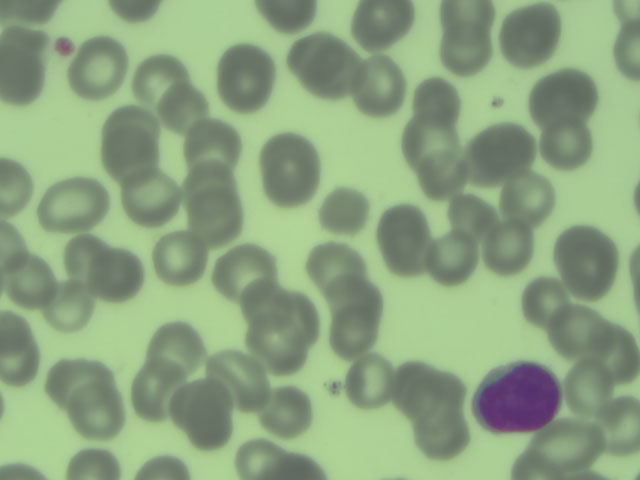Platelets: (54, 30, 81, 62), (322, 377, 348, 401), (487, 88, 509, 114)
RBC: (468, 124, 540, 180), (37, 178, 108, 229), (560, 228, 615, 293), (263, 136, 316, 203), (532, 69, 597, 123), (504, 8, 558, 64), (297, 34, 349, 91), (217, 51, 272, 104), (1, 321, 46, 383), (72, 41, 127, 91), (412, 151, 467, 201), (562, 367, 613, 418), (122, 174, 174, 222), (603, 14, 640, 79), (322, 187, 370, 234), (100, 251, 148, 298), (60, 234, 108, 281), (45, 284, 93, 331), (105, 134, 153, 181), (104, 107, 152, 154), (155, 237, 203, 284), (190, 203, 238, 250), (185, 166, 233, 213), (187, 119, 235, 166), (159, 84, 207, 131), (136, 56, 184, 103), (355, 59, 403, 106), (248, 327, 296, 374), (276, 295, 324, 342), (242, 281, 290, 328), (218, 247, 266, 294), (265, 389, 313, 436), (217, 358, 265, 405), (182, 390, 230, 437), (132, 368, 180, 415), (149, 324, 197, 371), (73, 387, 121, 434), (52, 356, 100, 403), (485, 225, 533, 272), (504, 175, 552, 222), (406, 119, 454, 166), (546, 123, 594, 170), (442, 27, 490, 74), (414, 78, 462, 125), (428, 235, 476, 282), (380, 207, 428, 254), (306, 240, 354, 287), (332, 276, 380, 323), (329, 315, 377, 362), (385, 361, 433, 408), (414, 376, 462, 423), (418, 411, 466, 458), (345, 355, 393, 402), (548, 422, 596, 469), (519, 278, 567, 325), (449, 190, 497, 237), (592, 401, 640, 448), (592, 329, 640, 376), (557, 309, 605, 356), (236, 433, 284, 479), (359, 1, 407, 47), (1, 43, 35, 107), (254, 1, 319, 34), (1, 220, 38, 277), (67, 442, 122, 479), (1, 157, 35, 214), (9, 259, 53, 303), (445, 1, 491, 41), (265, 454, 333, 480), (109, 1, 165, 29), (136, 451, 191, 479), (1, 1, 65, 22), (512, 452, 561, 479)
WBC: (468, 356, 565, 439)
